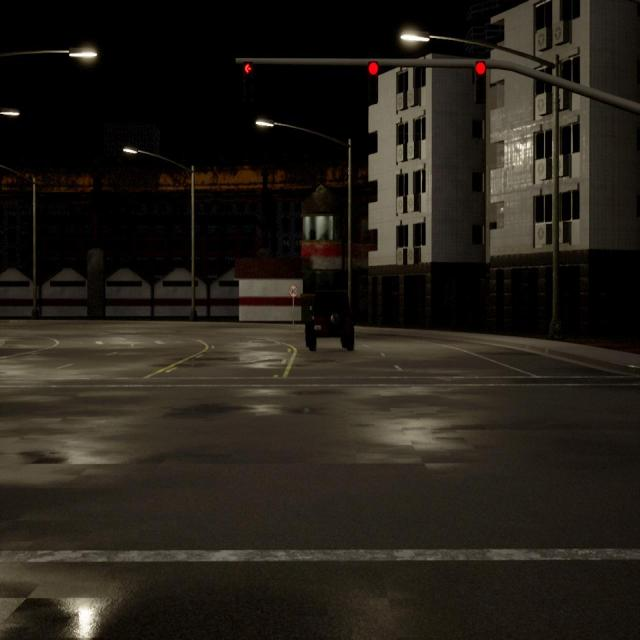Traffic_Signs: (289, 286, 297, 296)
Vehicle: (306, 292, 354, 351)
traffic_light: (475, 61, 486, 102), (368, 61, 378, 100), (244, 62, 254, 100)
